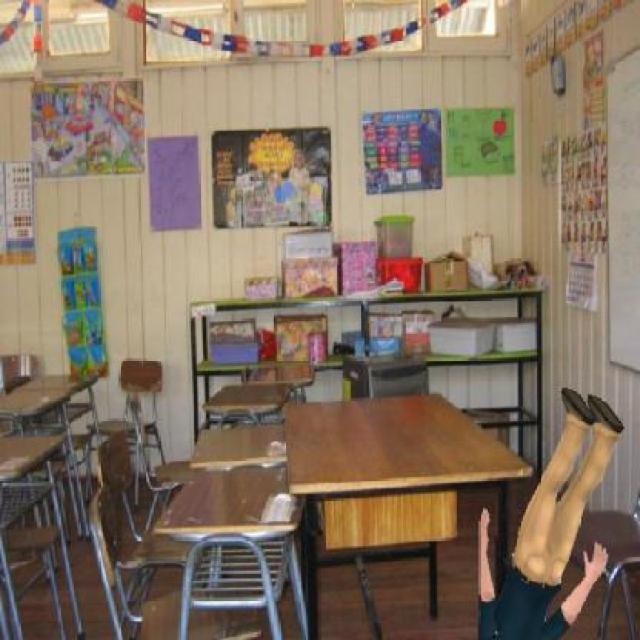Person: (474, 388, 624, 638)
